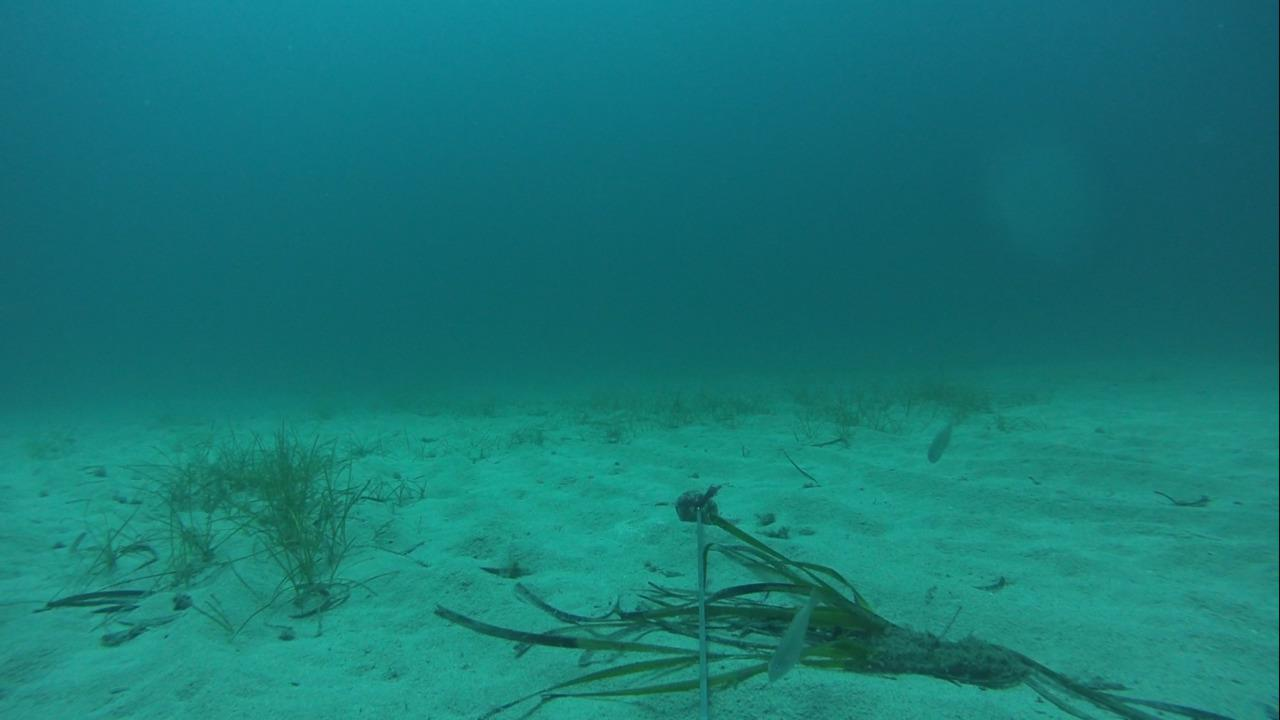raor: (759, 582, 833, 686), (921, 410, 958, 463)
